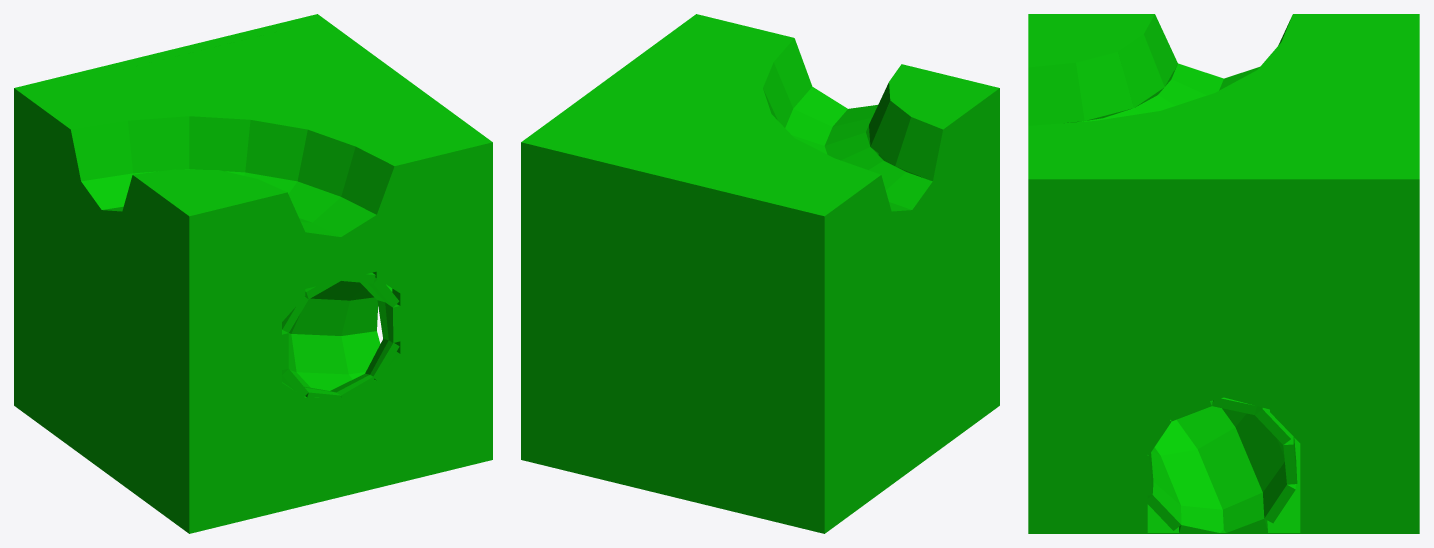
File: UCXKugelbahn.07.fbx
The picture shows the model from 3 angles, left to right: view 1: azimuth 30°, elevation 25°; view 2: azimuth 150°, elevation 25°; view 3: azimuth 270°, elevation 25°; orthographic projection. The views are drawn at different scales.
Parts seen in each view (by area): view 1: UCX_Kugelbahn.07_low; view 2: UCX_Kugelbahn.07_low; view 3: UCX_Kugelbahn.07_low.
Boxes of the visible parts, left/top/right/bottom form: UCX_Kugelbahn.07_low: left=14, top=14, right=492, bottom=533; UCX_Kugelbahn.07_low: left=521, top=14, right=999, bottom=533; UCX_Kugelbahn.07_low: left=1028, top=14, right=1419, bottom=533.
Bounding box in the file's own units: 0.05 × 0.05 × 0.05.
